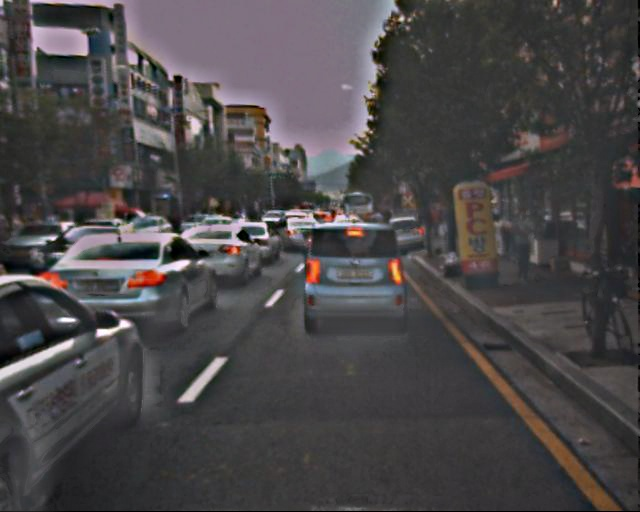person: (508, 204, 543, 290)
